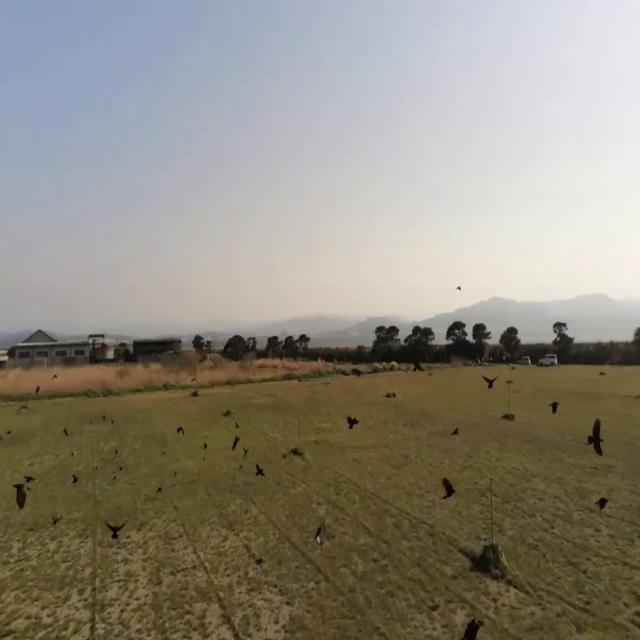bird: (587, 404, 603, 463), (14, 472, 29, 516), (596, 485, 610, 518), (347, 406, 359, 435), (484, 370, 496, 395), (449, 418, 460, 443), (242, 441, 249, 461)
